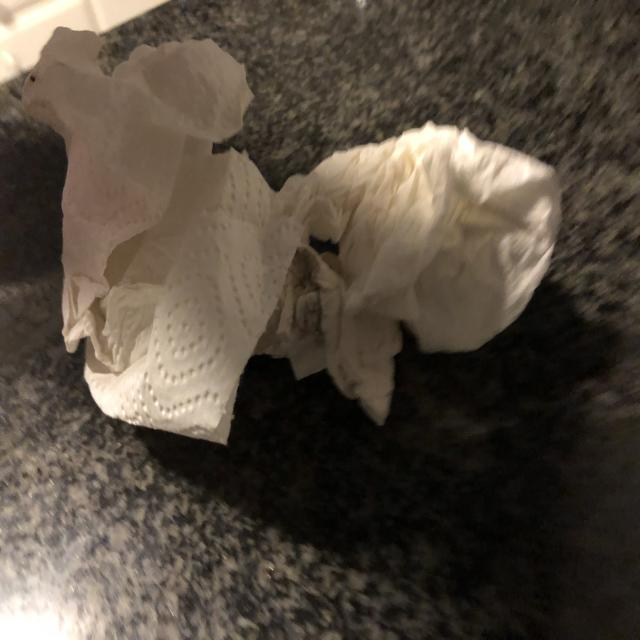kitchen paper: (30, 23, 311, 457), (254, 118, 565, 430)
